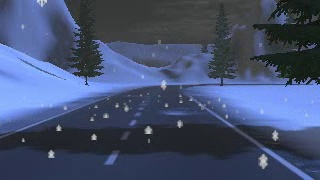Lane: (0, 83, 311, 179)
